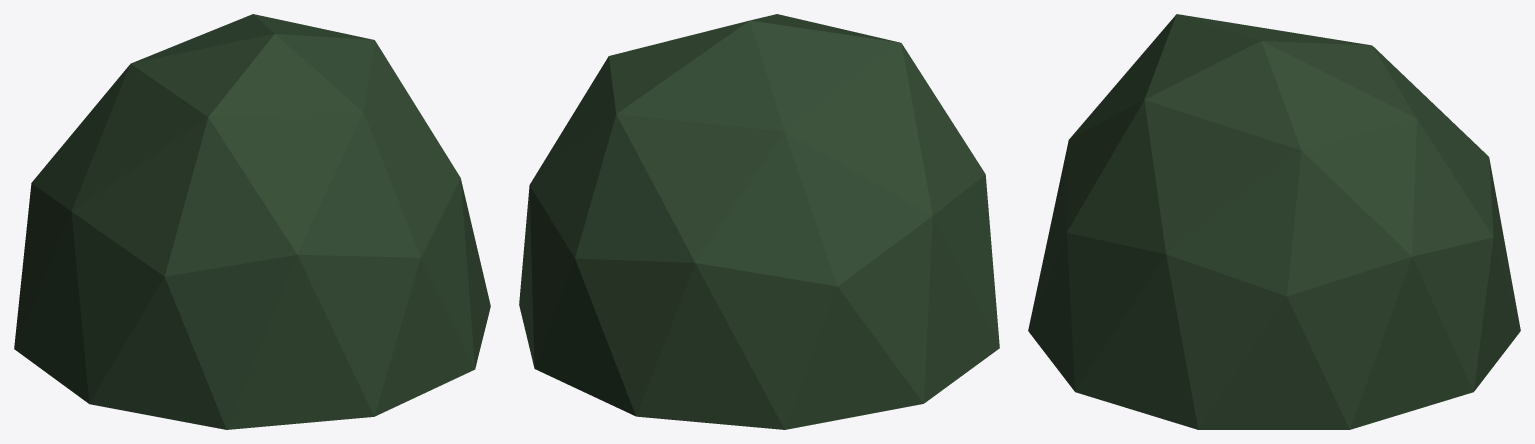
File: bush_early.glb
The picture shows the model from 3 angles, left to right: view 1: azimuth 30°, elevation 25°; view 2: azimuth 150°, elevation 25°; view 3: azimuth 270°, elevation 25°; orthographic projection.
Parts seen in each view (by area): view 1: Icosphere; view 2: Icosphere; view 3: Icosphere.
Part boxes in pixels (box(x1,y1,x2,y2)): Icosphere: box(14, 14, 490, 429); Icosphere: box(519, 14, 999, 429); Icosphere: box(1028, 14, 1520, 429).
Bounding box in the file's own units: 1.48 × 1.04 × 1.56.
